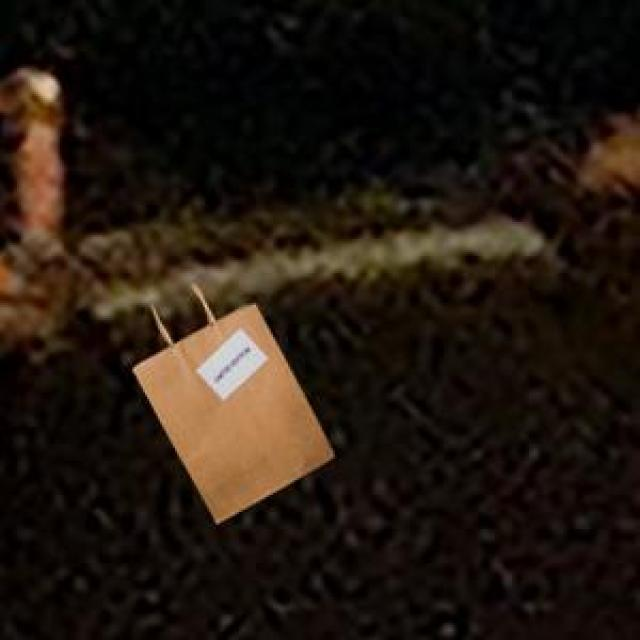paper: (128, 280, 331, 518)
